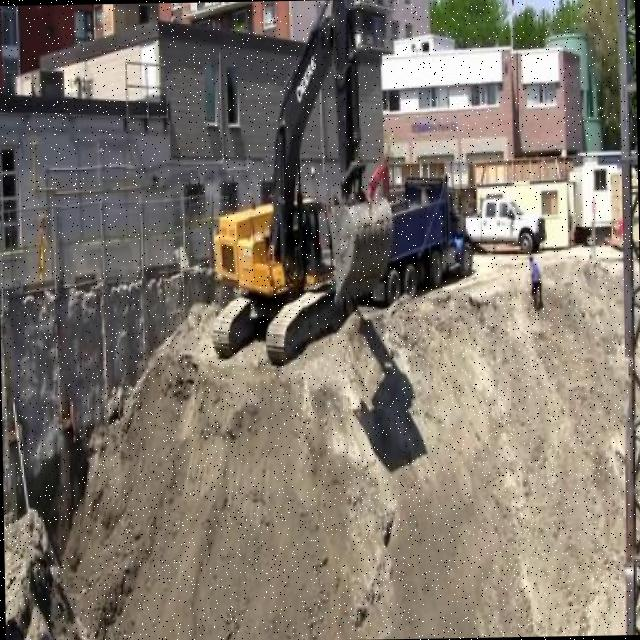Dump Truck: (352, 180, 473, 292)
Excavator: (202, 0, 392, 370)
